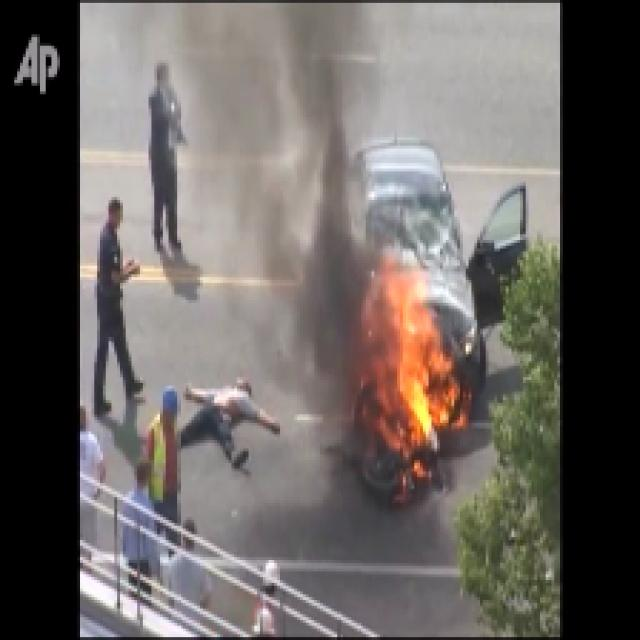fire: (396, 335, 448, 445)
smoke: (303, 230, 368, 384)
